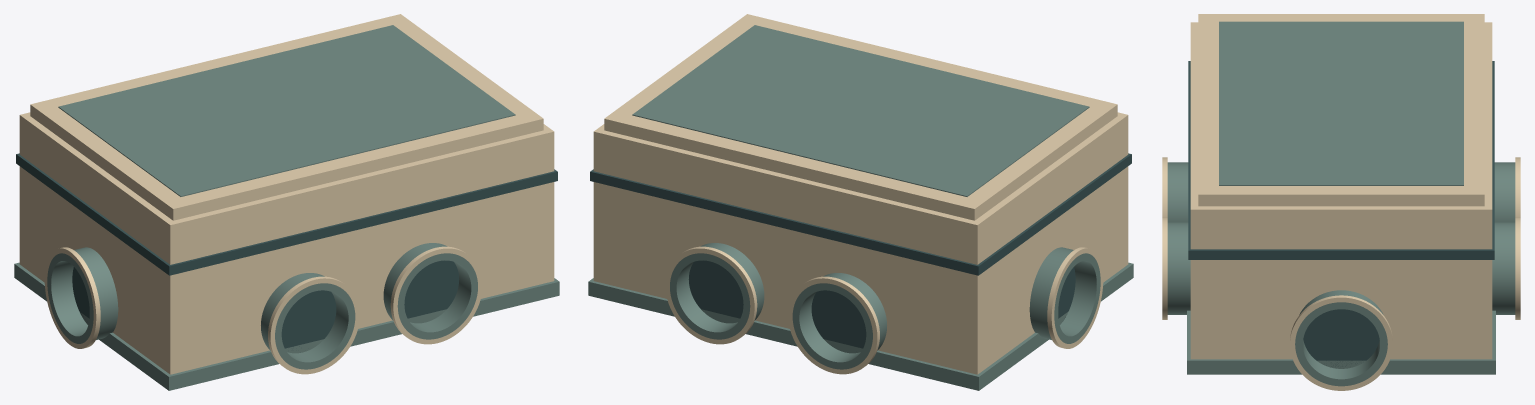
Rendered from Tube_Connector_1x2.glb.
The picture shows the model from 3 angles, left to right: view 1: azimuth 30°, elevation 25°; view 2: azimuth 150°, elevation 25°; view 3: azimuth 270°, elevation 25°; orthographic projection.
Visible parts, largest first — view 1: Tube_Connector_1x2; view 2: Tube_Connector_1x2; view 3: Tube_Connector_1x2.
Part boxes in pixels (x1,y1,x2,y2): Tube_Connector_1x2: (14,14,559,390); Tube_Connector_1x2: (588,14,1133,390); Tube_Connector_1x2: (1162,14,1520,390).
Size of the model in its own units: 3.88 by 1.56 by 2.78.
